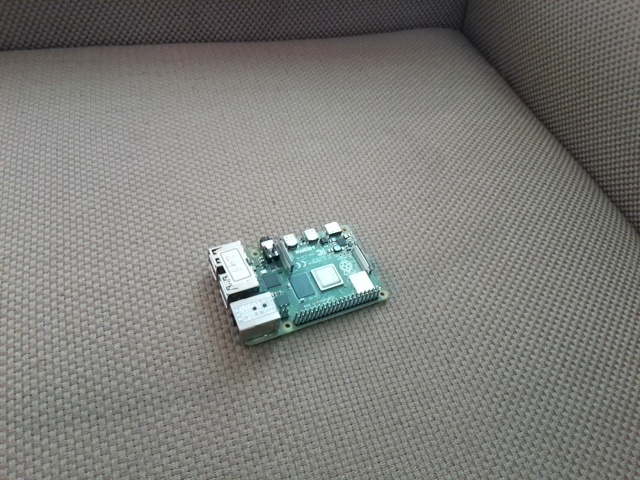Pi4: (202, 215, 393, 352)
